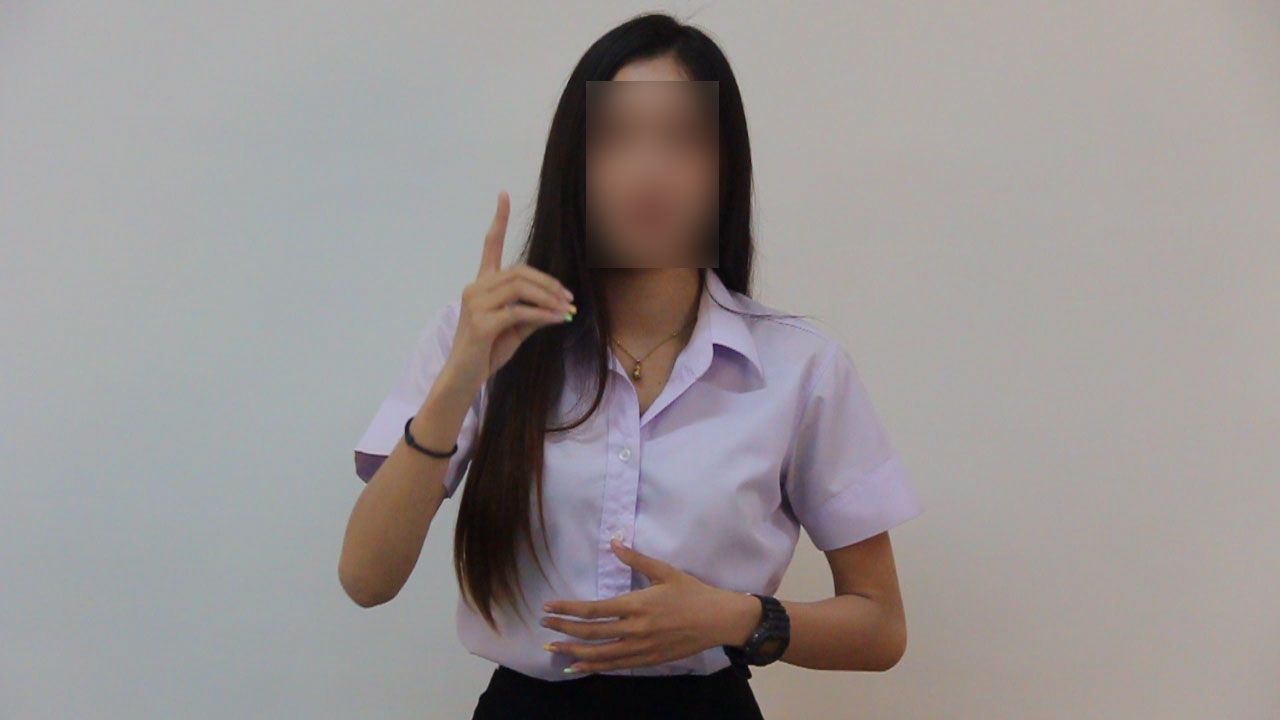dor: (424, 181, 587, 383)
